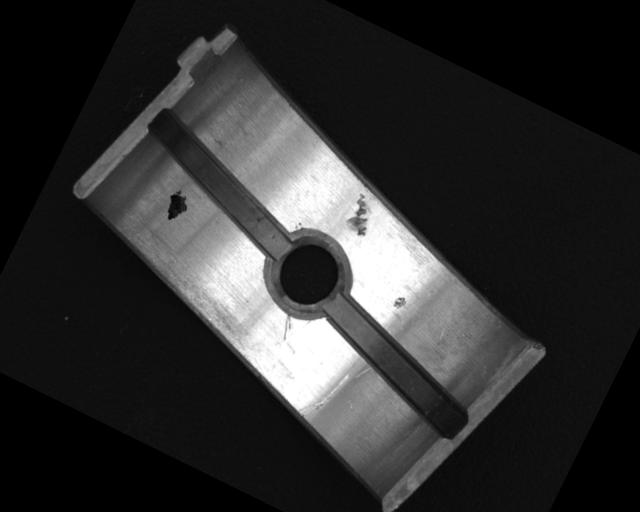blot: (159, 186, 194, 226)
bruise: (342, 192, 383, 240), (391, 293, 409, 313)
gap: (120, 106, 319, 263), (301, 292, 490, 440)
hole: (250, 219, 363, 334)
nick: (296, 361, 352, 429), (275, 311, 298, 341)
scratch: (101, 226, 260, 345)
